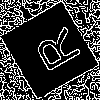R: (25, 25, 84, 79)
